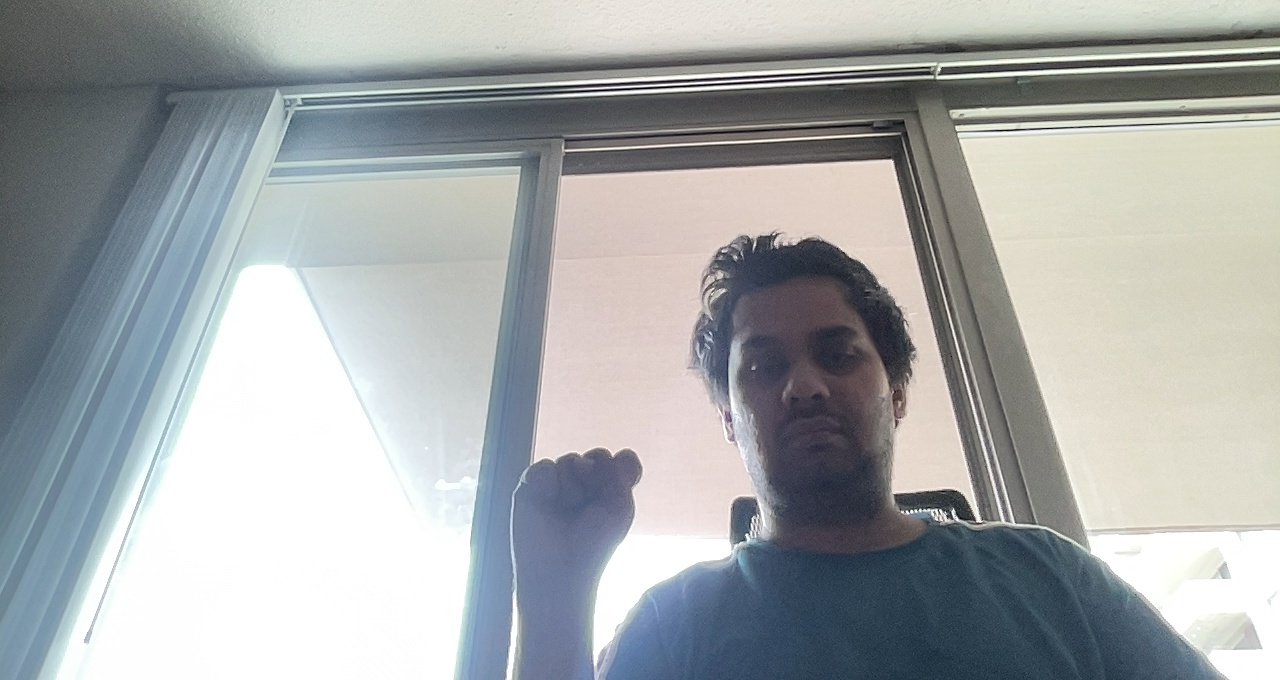closedfist: (506, 449, 648, 556)
